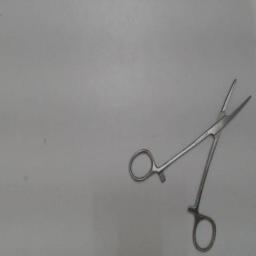Mayo Needle Holder: (126, 74, 256, 254)
